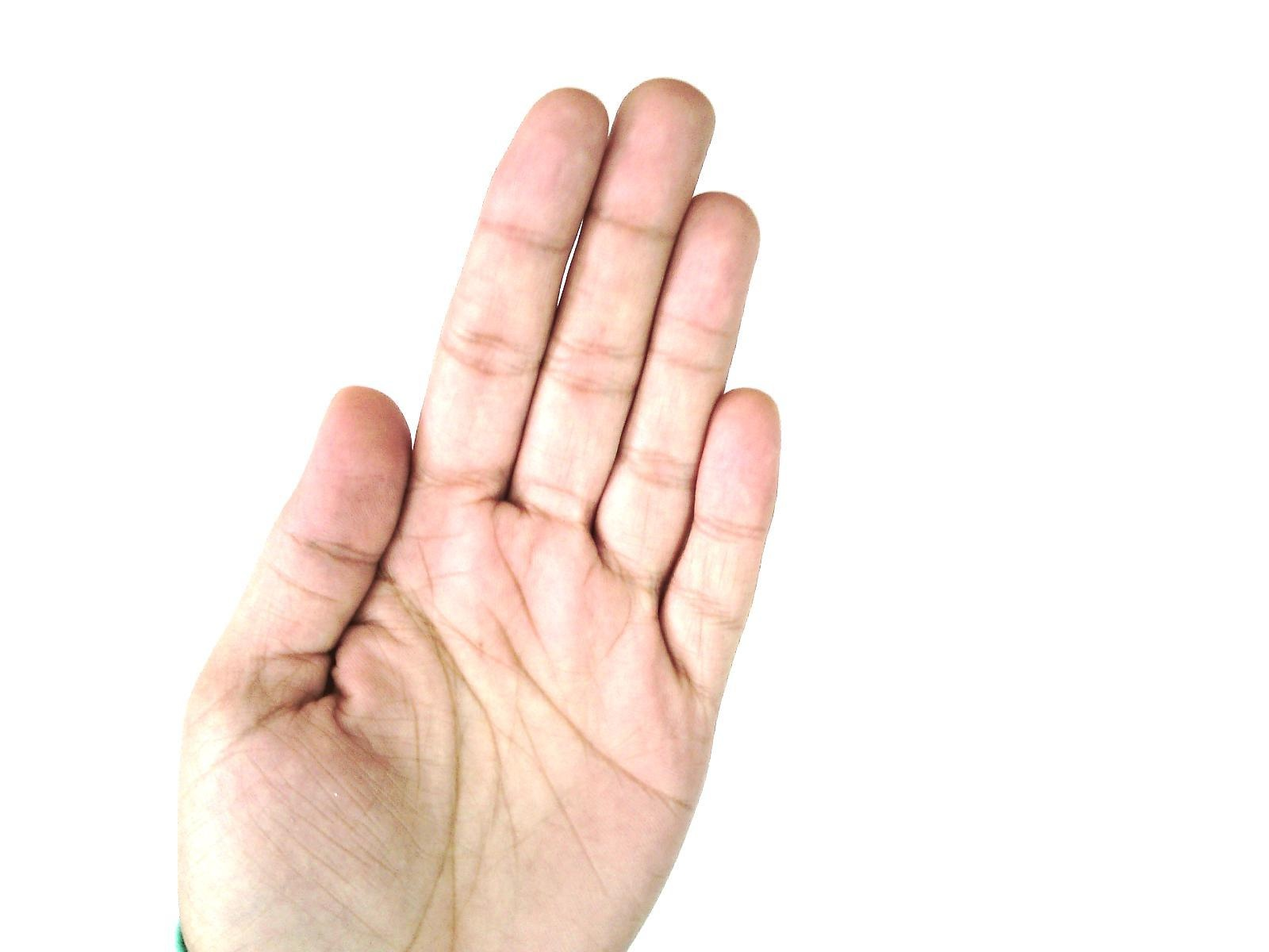open_palm: (173, 77, 785, 952)
